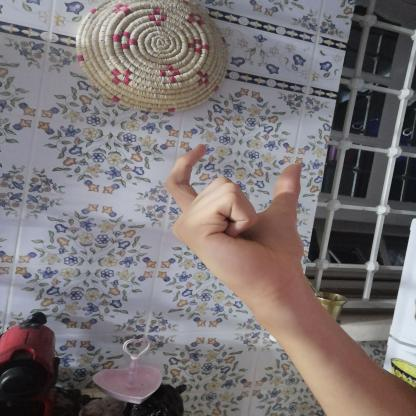NOON: (147, 132, 320, 297)
